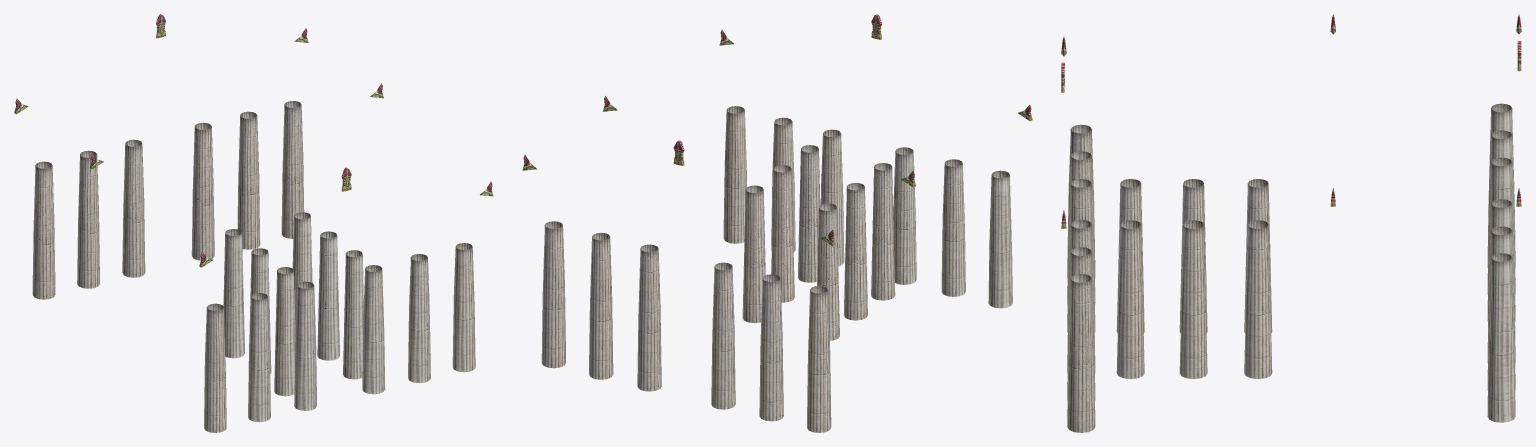
The model's file is propylaea_props.dae.
3 renders of one model, left to right at view 1: azimuth 30°, elevation 25°; view 2: azimuth 150°, elevation 25°; view 3: azimuth 270°, elevation 25°, orthographic. The views are drawn at different scales.
Parts seen in each view (by area): view 1: parthenon_OBJ_00; view 2: parthenon_OBJ_00; view 3: parthenon_OBJ_00.
Boxes of the visible parts, x1,y1,x2,y2 form: parthenon_OBJ_00: (14, 14, 493, 432); parthenon_OBJ_00: (522, 14, 1032, 432); parthenon_OBJ_00: (1061, 14, 1521, 432).
Size of the model in its own units: 23.69 by 19.53 by 26.22.
